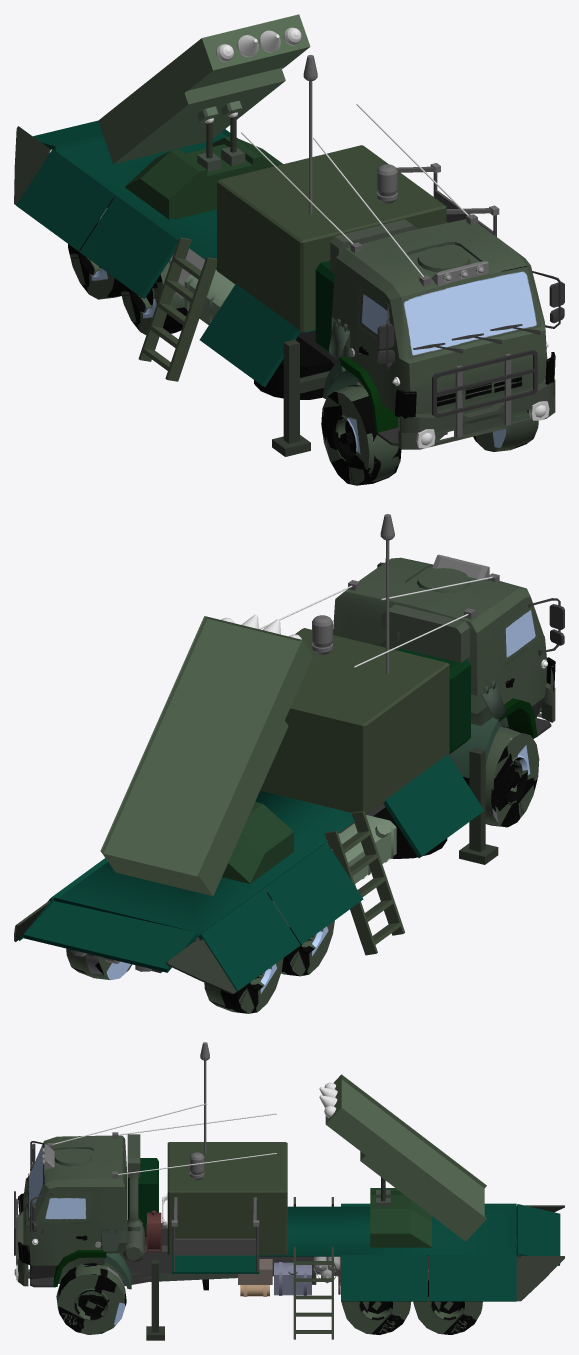
The model's file is antenna-not-deployed(green).fbx.
The picture shows the model from 3 angles, top to bottom: view 1: azimuth 30°, elevation 25°; view 2: azimuth 150°, elevation 25°; view 3: azimuth 270°, elevation 25°; orthographic projection. The views are drawn at different scales.
Parts seen in each view (by area): view 1: Куб.131, Куб.136, Cube, Cube.002, Цилиндр.051, Cube.001, Cube.008, Куб.096, Cube.016, Cube.007, Цилиндр.053, Цилиндр.073 (+16 smaller); view 2: Куб.136, Cube.002, Cube, Куб.131, Цилиндр.051, Cube.008, Цилиндр.059, Cube.001, Цилиндр.001, Cube.015, Cube.016, Cube.011 (+9 smaller); view 3: Куб.136, Куб.131, Cube, Cube.002, Цилиндр.051, Cube.001, Цилиндр.001, Цилиндр.053, Цилиндр.059, Куб.118, Cube.018, Cube.009 (+17 smaller).
Boxes of the visible parts, x1,y1,x2,y2 form: Куб.131: [331, 219, 555, 434]; Куб.136: [16, 120, 315, 387]; Cube: [217, 145, 446, 332]; Cube.002: [98, 14, 310, 164]; Цилиндр.051: [321, 384, 538, 485]; Cube.001: [125, 136, 283, 219]; Cube.008: [138, 237, 216, 381]; Куб.096: [398, 379, 555, 449]; Cube.016: [272, 339, 329, 456]; Cube.007: [432, 349, 537, 417]; Цилиндр.053: [119, 262, 187, 334]; Цилиндр.073: [254, 336, 334, 399]; Куб.136: [19, 754, 484, 991]; Cube.002: [100, 616, 313, 895]; Cube: [260, 628, 449, 815]; Куб.131: [333, 557, 555, 754]; Цилиндр.051: [463, 726, 539, 827]; Cube.008: [324, 810, 404, 955]; Цилиндр.059: [380, 604, 469, 662]; Cube.001: [222, 802, 293, 883]; Цилиндр.001: [66, 948, 283, 1013]; Cube.015: [397, 648, 470, 753]; Cube.016: [459, 747, 498, 864]; Cube.011: [165, 939, 236, 994]; Куб.136: [171, 1203, 560, 1301]; Куб.131: [18, 1135, 127, 1283]; Cube: [167, 1142, 287, 1255]; Cube.002: [325, 1074, 486, 1241]; Цилиндр.051: [56, 1263, 126, 1334]; Cube.001: [370, 1188, 431, 1247]; Цилиндр.001: [413, 1269, 482, 1334]; Цилиндр.053: [341, 1301, 410, 1334]; Цилиндр.059: [123, 1134, 144, 1262]; Куб.118: [120, 1223, 520, 1285]; Cube.018: [175, 1238, 256, 1255]; Cube.009: [293, 1246, 333, 1339].
Size of the model in its own units: 732 by 1057 by 2029.
Materials: 67 (5 with a texture image).
